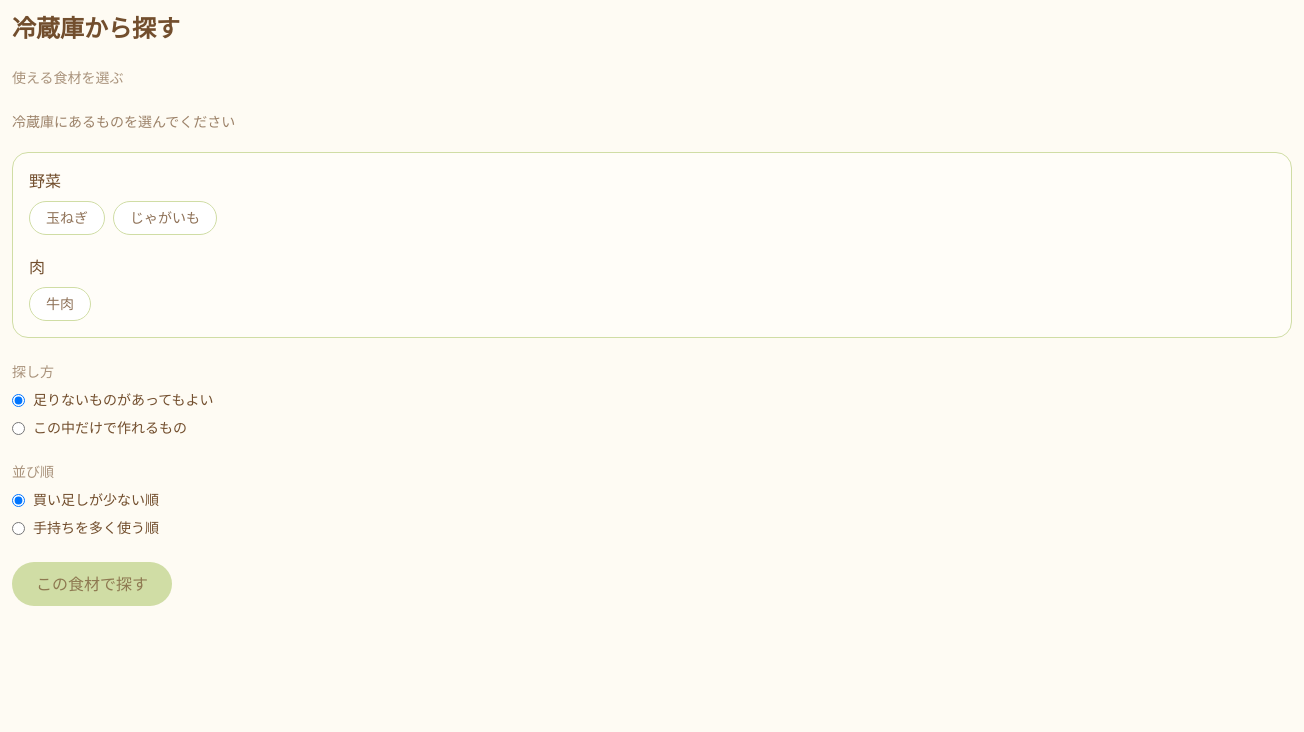
冷蔵庫から探す › 不足0でも調味料などが要ることを伝える
This screenshot has width=1304, height=732.
Click the checkbox labelled "玉ねぎ": (67, 218) [29,201,105,235]
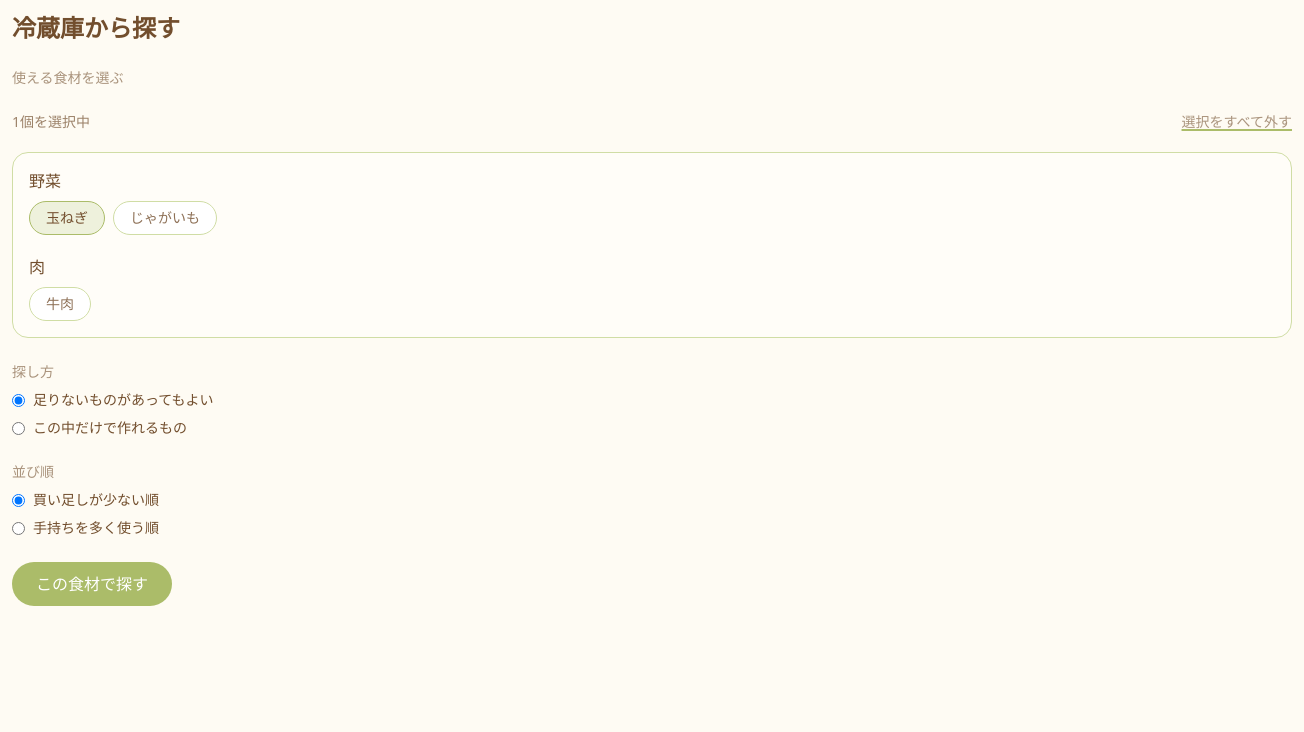
Click the button "この食材で探す": (92, 584) [12,562,172,606]
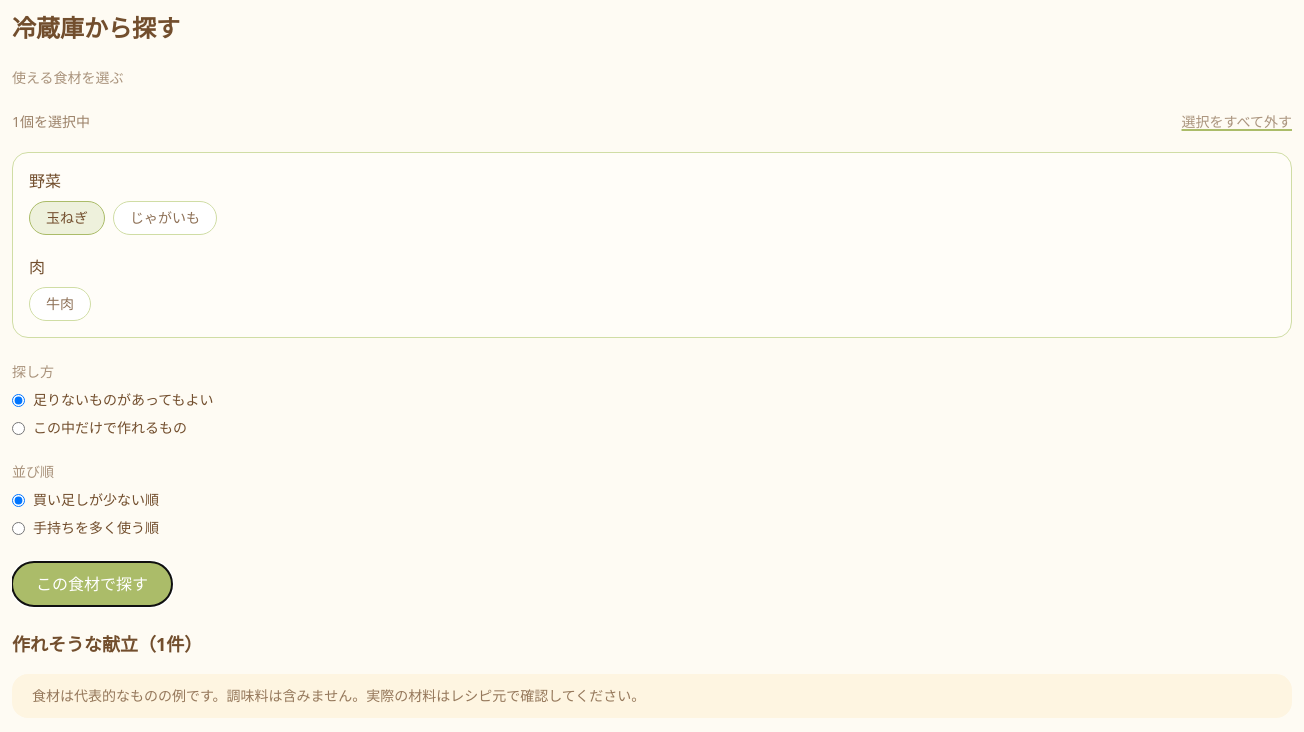
Check: the text "食材は代表的なものの例です。調味料は含みません。実際の材料はレシピ元で確認してください。" is shown, box [12,674,1292,718]
